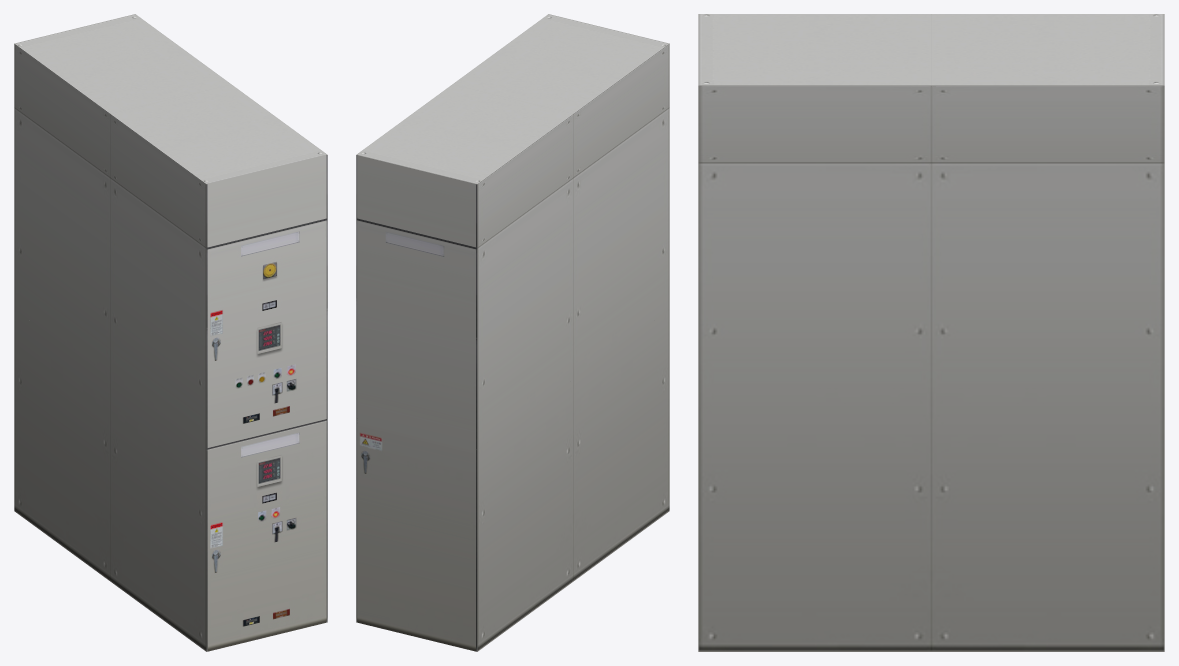
The picture shows the model from 3 angles, left to right: view 1: azimuth 30°, elevation 25°; view 2: azimuth 150°, elevation 25°; view 3: azimuth 270°, elevation 25°; orthographic projection. The views are drawn at different scales.
Visible parts, largest first — view 1: LV-D2-U; view 2: LV-D2-U; view 3: LV-D2-U.
Part boxes in pixels (x1=…): LV-D2-U: x1=14, y1=14, x2=327, y2=651; LV-D2-U: x1=356, y1=14, x2=669, y2=651; LV-D2-U: x1=698, y1=14, x2=1164, y2=651.
Bounding box in the file's own units: 0.8 × 2.95 × 2.2.
Materials: 1 (1 with a texture image).
